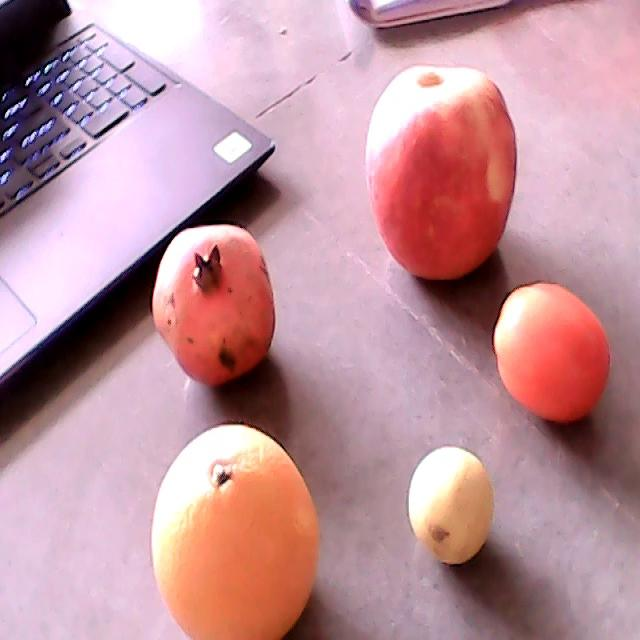apple: (367, 64, 518, 278)
lemon: (409, 445, 494, 565)
orange: (153, 424, 319, 639)
pomegranate: (152, 225, 276, 386)
tomato: (493, 279, 610, 422)
